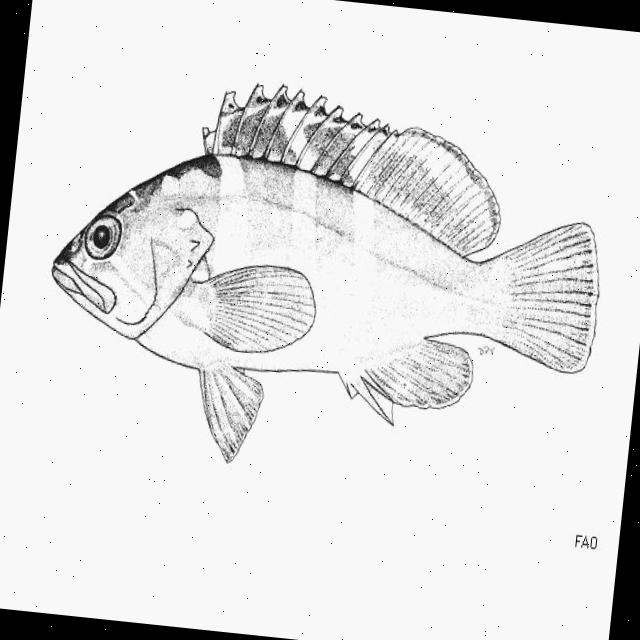ikan: (32, 59, 618, 498)
